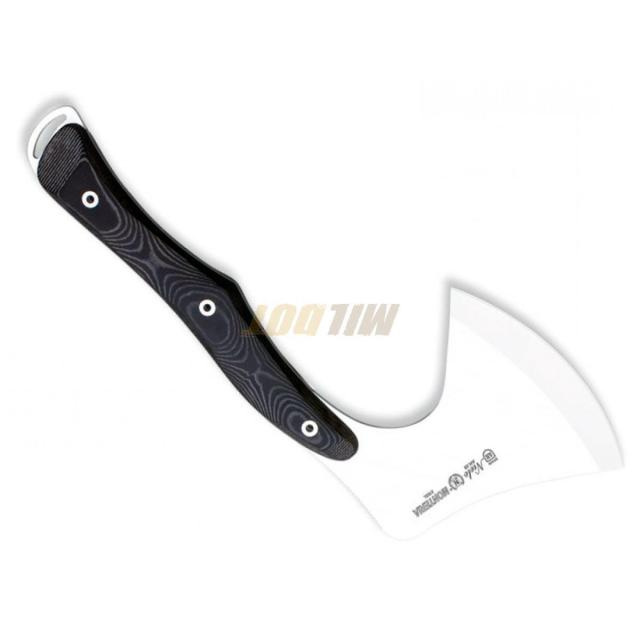Kapak: (36, 101, 613, 539)
